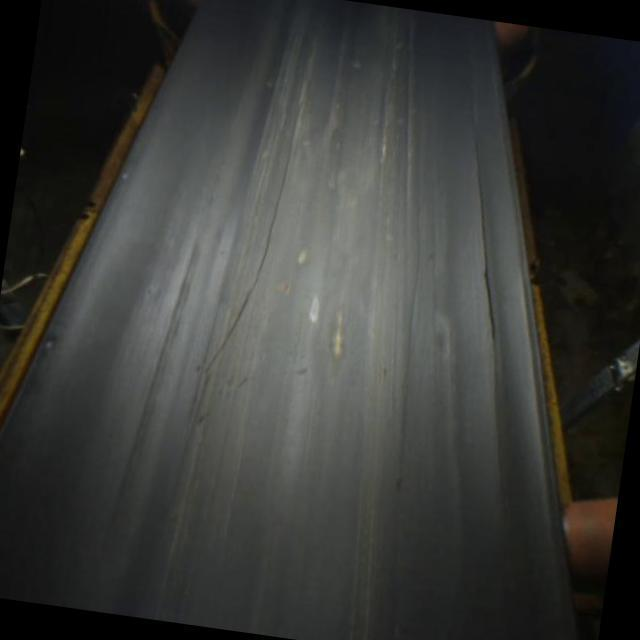Tear: (196, 150, 297, 380), (470, 140, 502, 351)
